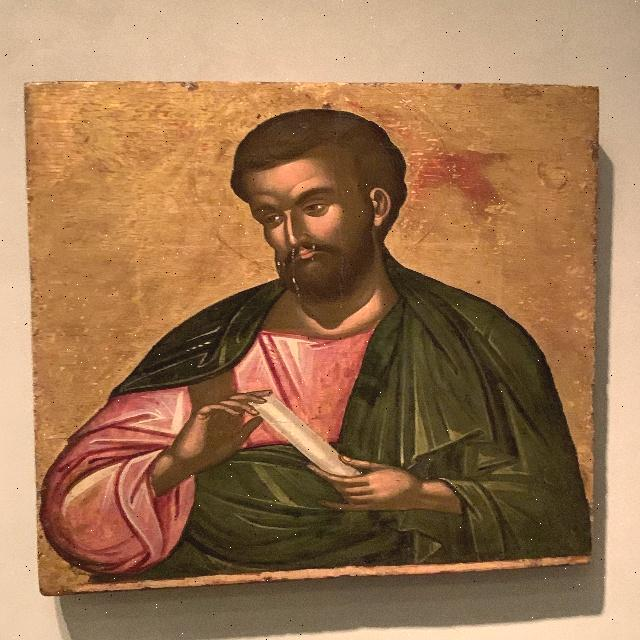aura: (187, 81, 454, 276)
saint: (27, 84, 592, 563)
scroll: (252, 392, 364, 490)
